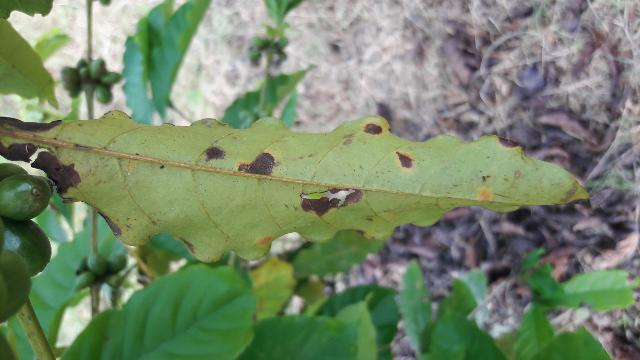red_spider_mite: (4, 111, 585, 263)
